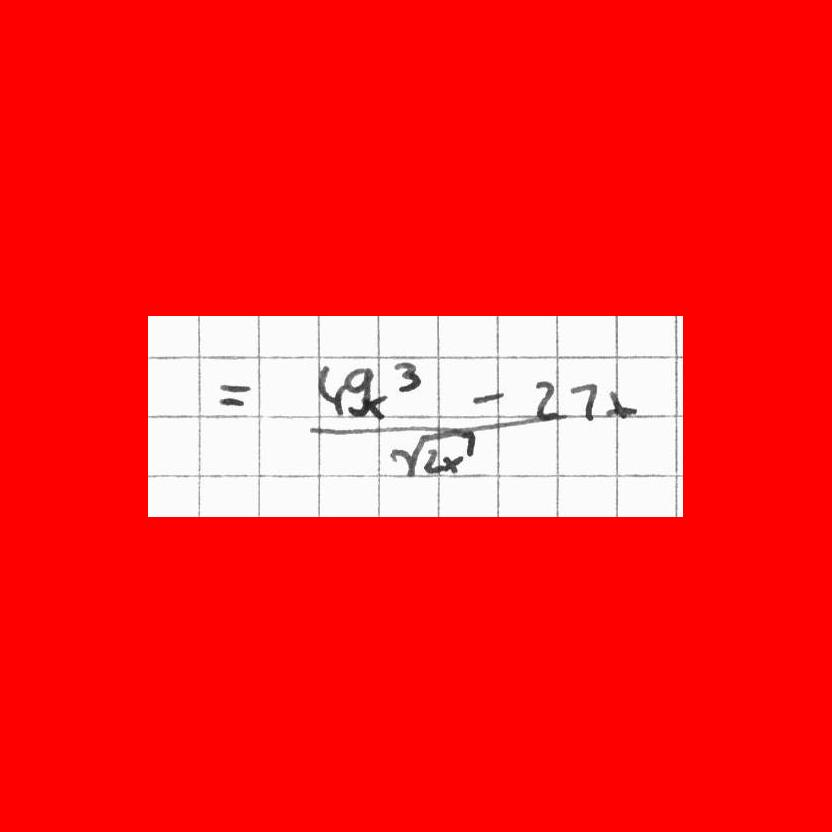Char: (303, 422, 564, 436), (317, 361, 345, 416), (346, 365, 374, 416), (214, 377, 252, 411), (531, 375, 559, 420), (390, 438, 422, 477), (568, 380, 597, 422), (393, 357, 423, 395), (605, 387, 634, 421), (359, 394, 389, 420), (436, 450, 465, 474), (469, 389, 507, 407)
